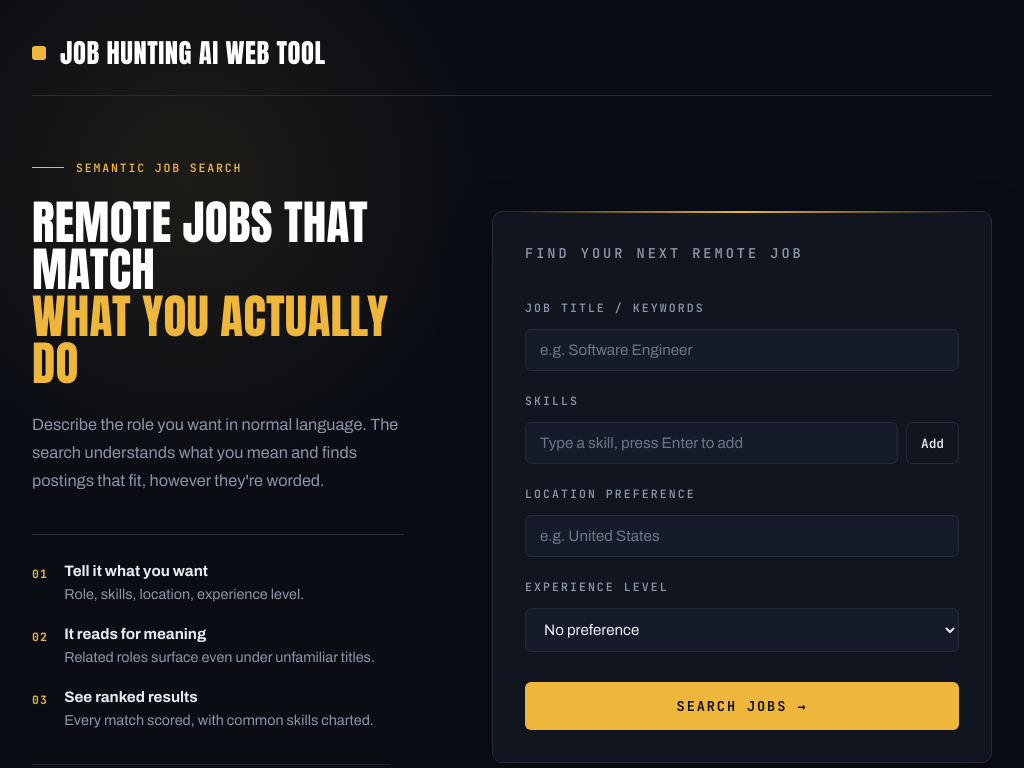
Test: shows results page after a successful search
The image size is (1024, 768).
Click the button "Search Jobs": coordinates (742, 706) [525,682,959,730]
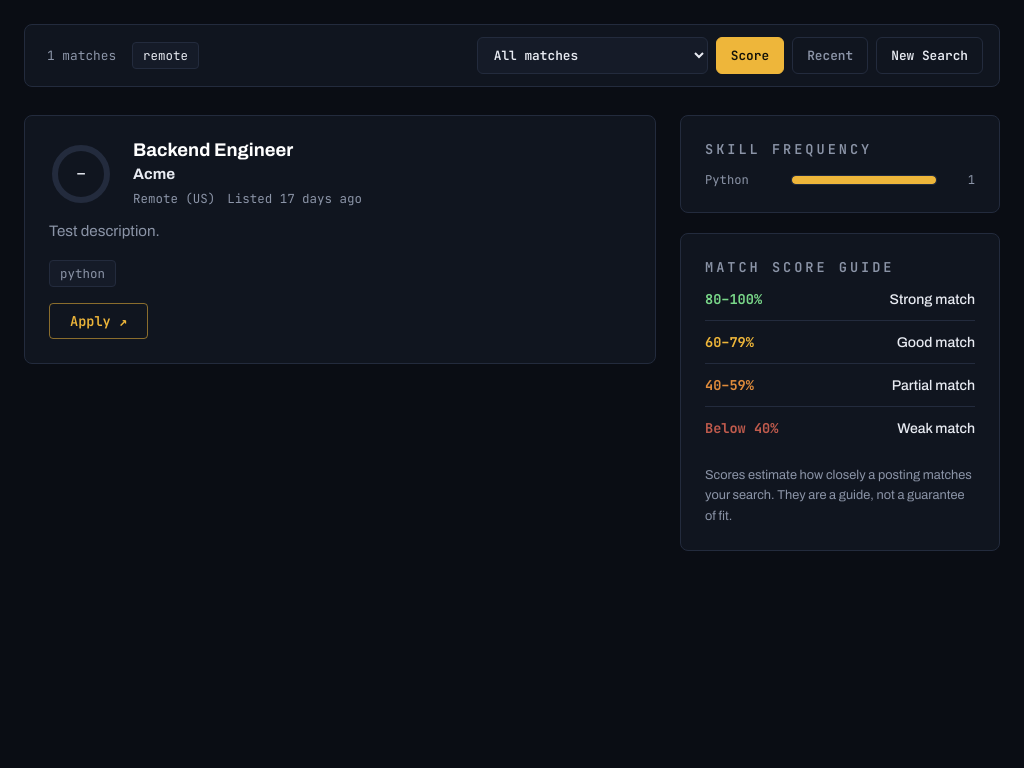
Check: the text "1 matches" is shown, box [47,47,116,64]
Check: the button "New Search" is shown, box [876,37,983,74]
